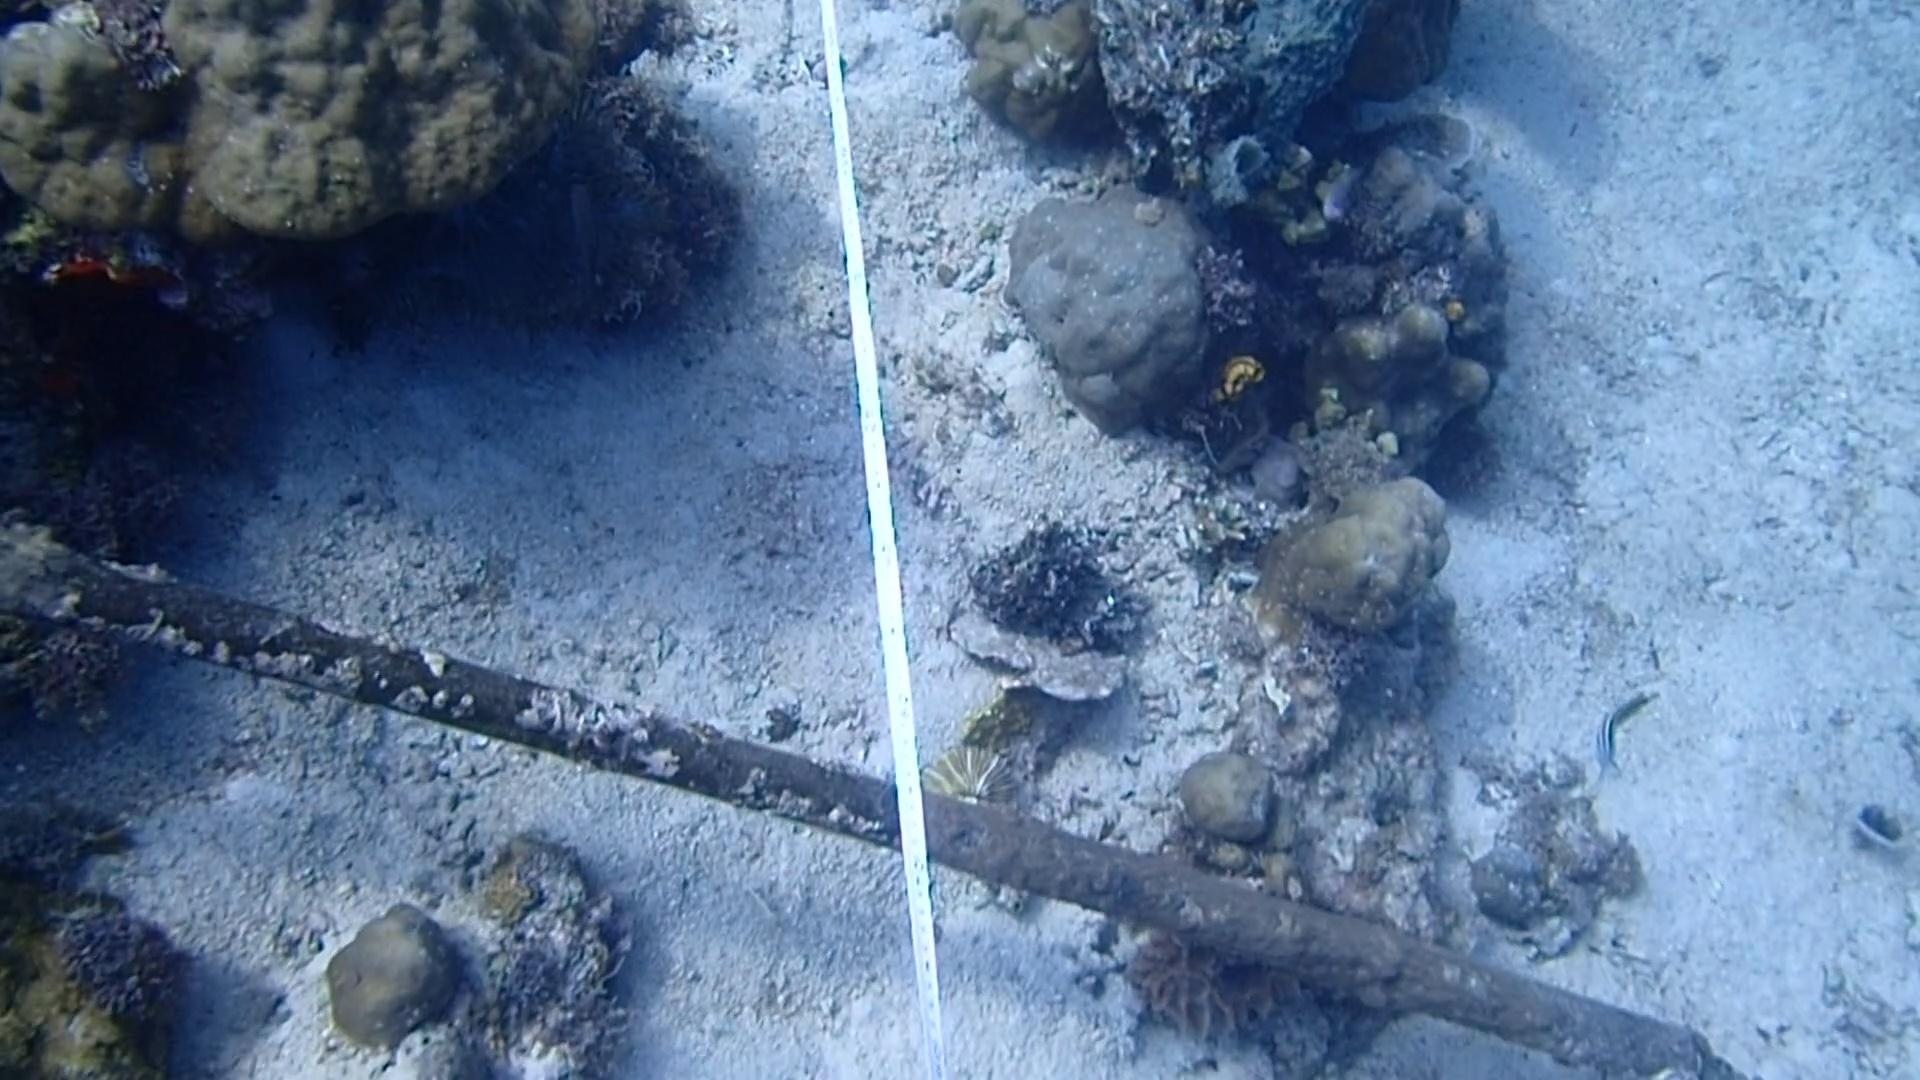Blue Nose Fish: (1316, 160, 1374, 222)
Dark Fish: (545, 175, 624, 284)
Striped Fish: (1565, 680, 1664, 786)
